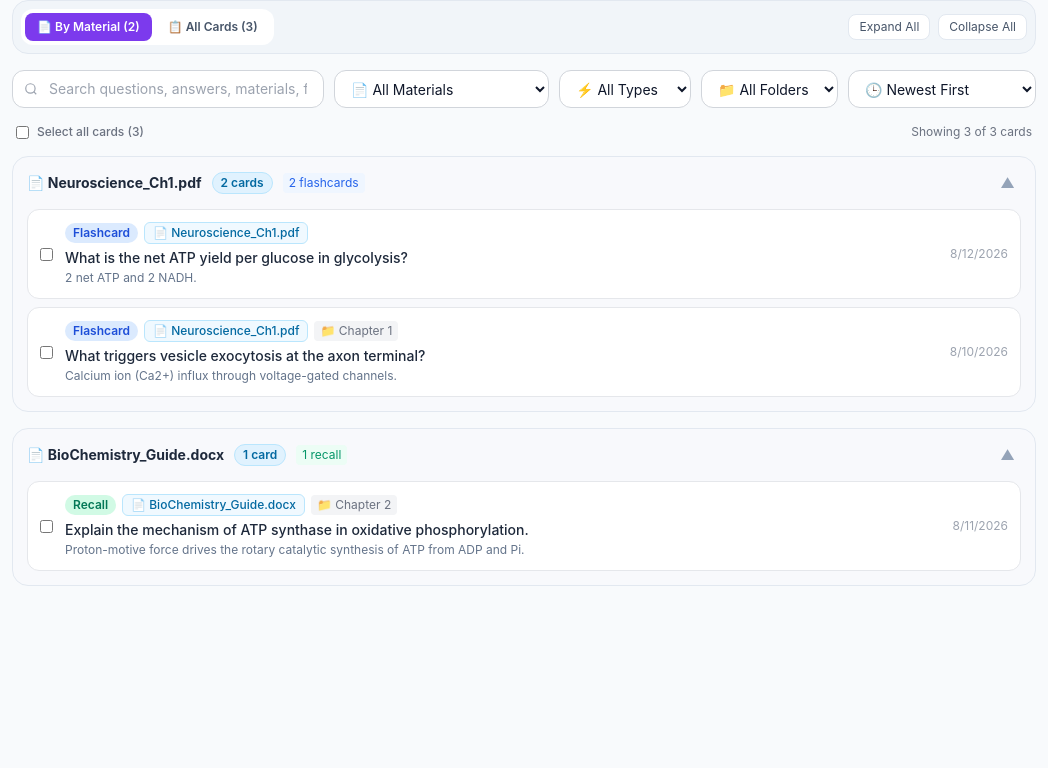
it: CardBrowser - Material-Based Organization & Search › filters cards by material dropdown selector
Select "BioChemistry_Guide.docx" in the dropdown named "filter by material" at (442, 89), box [334,70,549,108]
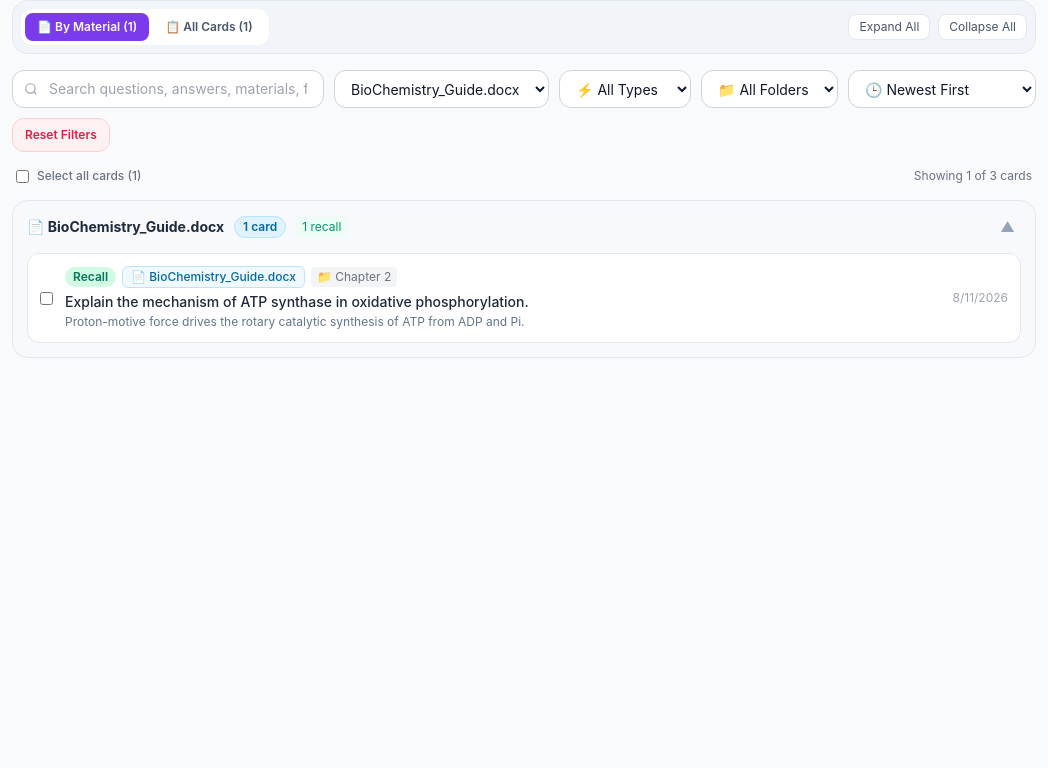
Check: the text "Explain the mechanism of ATP synthase" is shown, box [65,293,529,310]
Check: the button "What triggers vesicle exocytosis" is gone
Check: the button "What is the net ATP yield" is gone
